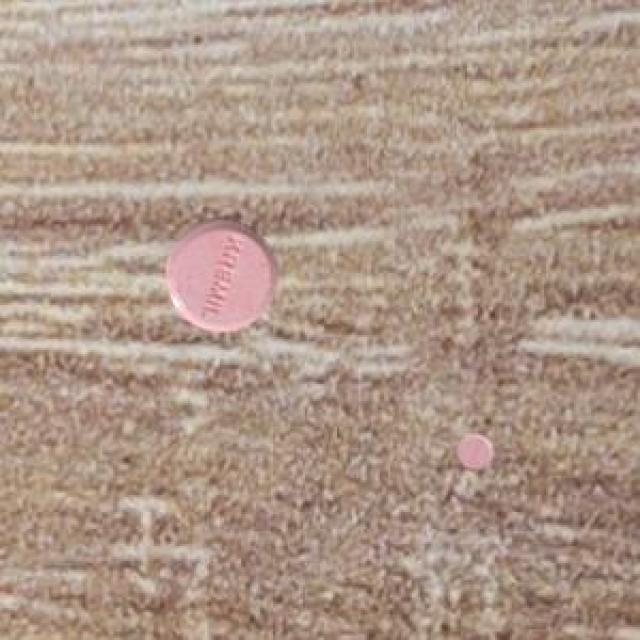Kremil_S: (154, 210, 288, 342)
